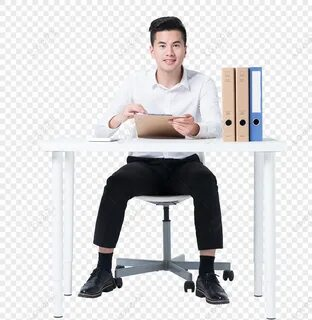awake: (77, 16, 230, 305)
